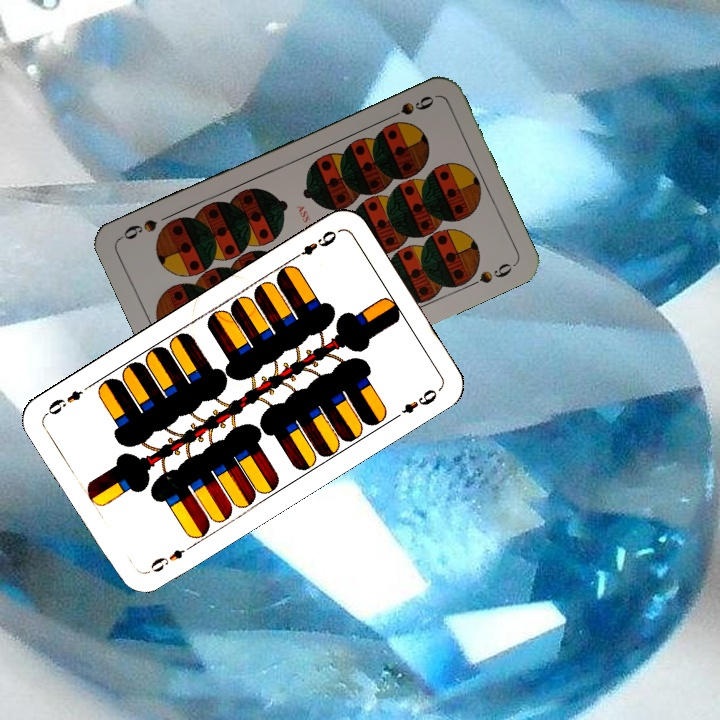E9: (143, 540, 196, 577), (288, 226, 340, 263)
S9: (381, 91, 437, 123)
